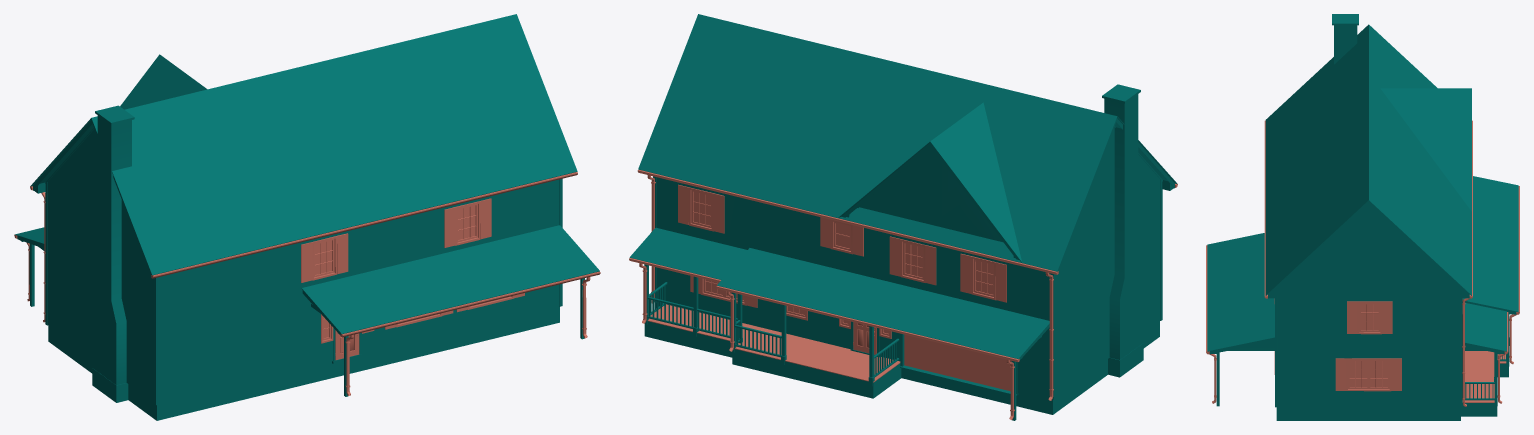
File: TestHouse.fbx
3 views of the same model, side by side, from view 1: azimuth 30°, elevation 25°; view 2: azimuth 150°, elevation 25°; view 3: azimuth 270°, elevation 25° (orthographic). The views are drawn at different scales.
Visible parts, largest first — view 1: HouseA_LOD0; view 2: HouseA_LOD0; view 3: HouseA_LOD0.
Part boxes in pixels (x1,y1,x2,y2): HouseA_LOD0: (14,14,600,420); HouseA_LOD0: (629,14,1177,420); HouseA_LOD0: (1206,14,1519,420).
Size of what is drawn, in the model's own units: 1790 by 1111 by 1344.
